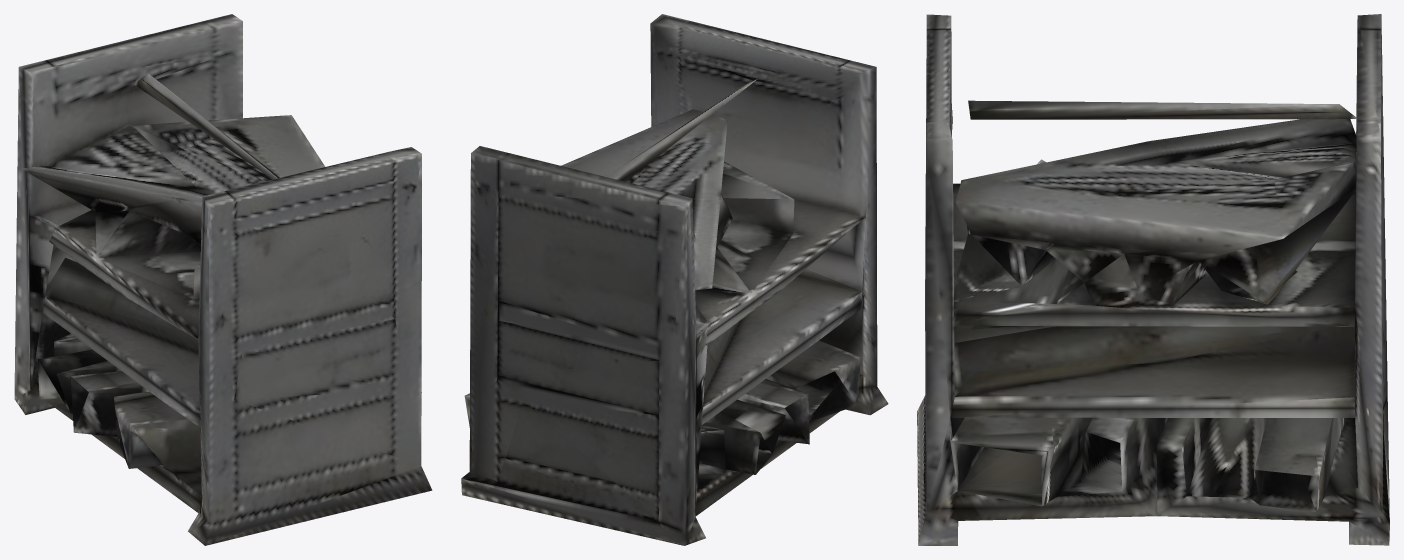
Rendered from tripo_convert_d994959a-def4-456e-9e7b-58b2b118f98e.fbx.
3 renders of one model, left to right at view 1: azimuth 30°, elevation 25°; view 2: azimuth 150°, elevation 25°; view 3: azimuth 270°, elevation 25°, orthographic. The views are drawn at different scales.
Visible parts, largest first — view 1: tripo_node_d994959a; view 2: tripo_node_d994959a; view 3: tripo_node_d994959a.
Part boxes in pixels (x1,y1,x2,y2): tripo_node_d994959a: (14, 14, 432, 545); tripo_node_d994959a: (461, 14, 888, 545); tripo_node_d994959a: (917, 14, 1389, 545).
Bounding box in the file's own units: 0.8185 × 0.947 × 1.
Materials: 1 (1 with a texture image).
